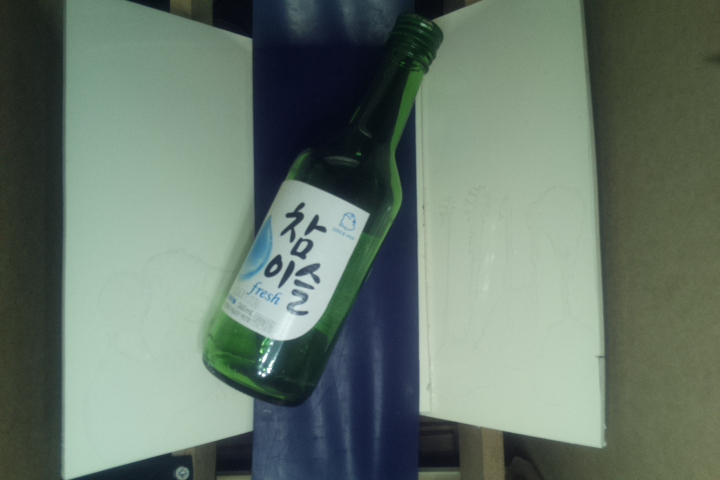soju: (197, 13, 446, 408)
